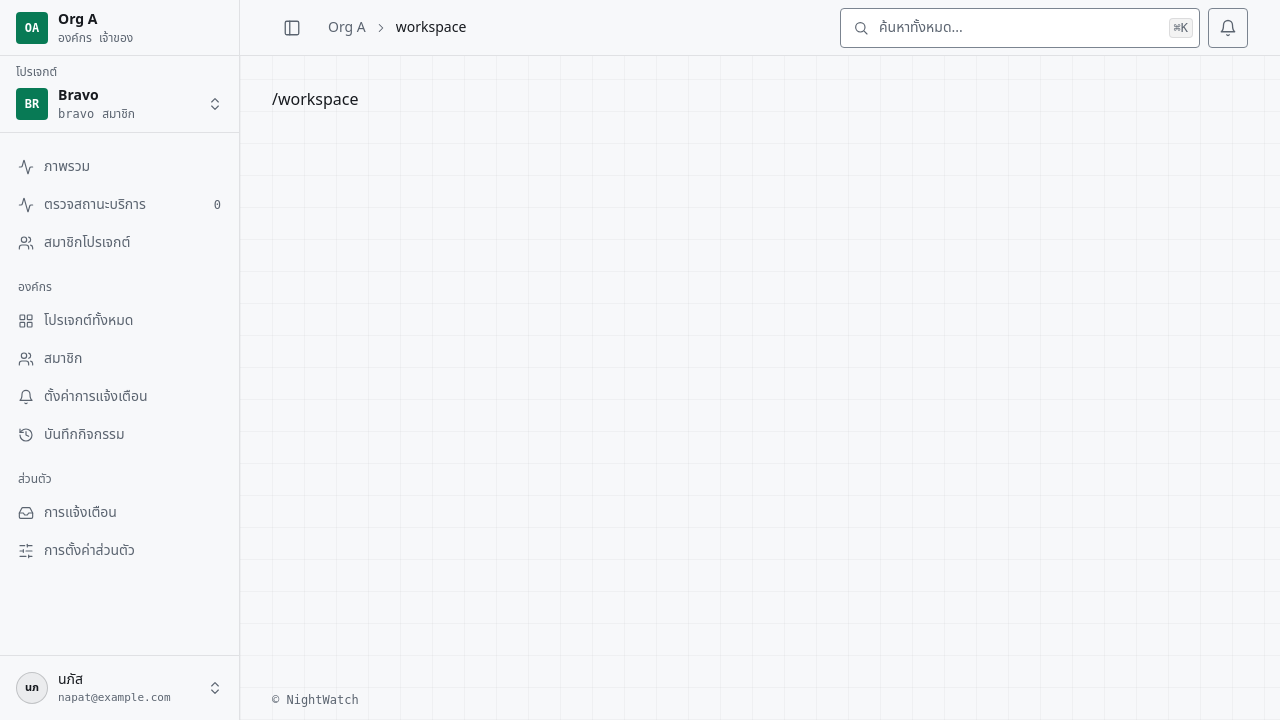
Scenario: ProjectSwitcher › AC-01: search narrows by name or slug and says when nothing matches
This screenshot has width=1280, height=720.
Click the button with test id "shell-project-switch" at (120, 104), box [8,84,231,124]
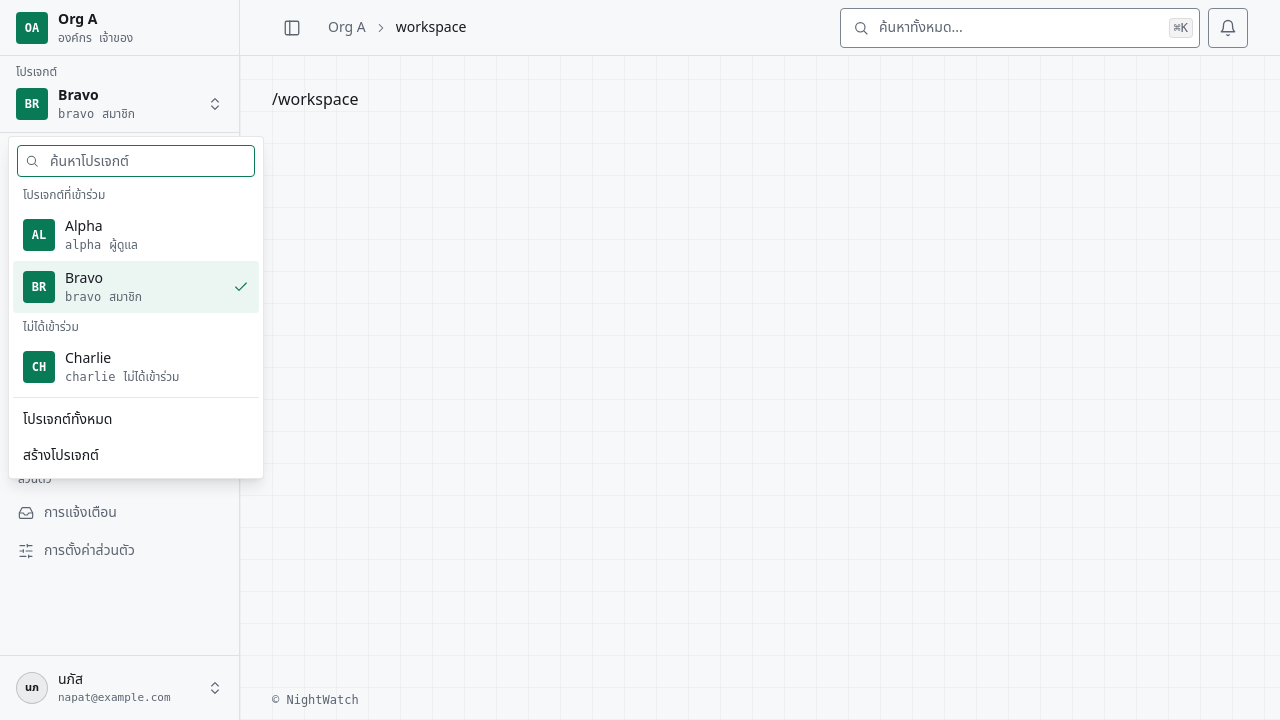
Type "brav" into the field with test id "shell-project-search" at (136, 161), box [17,145,255,177]
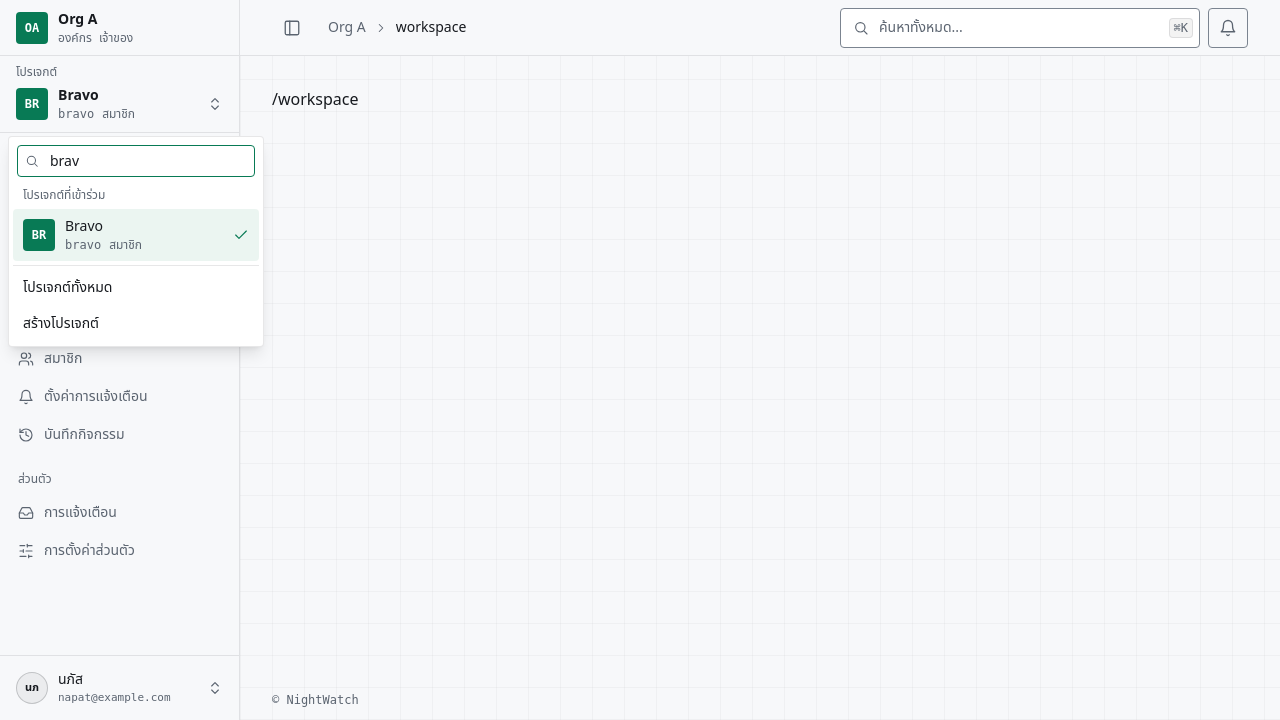
Replace the text in the field with test id "shell-project-search" with "zzz" at (136, 161), box [17,145,255,177]
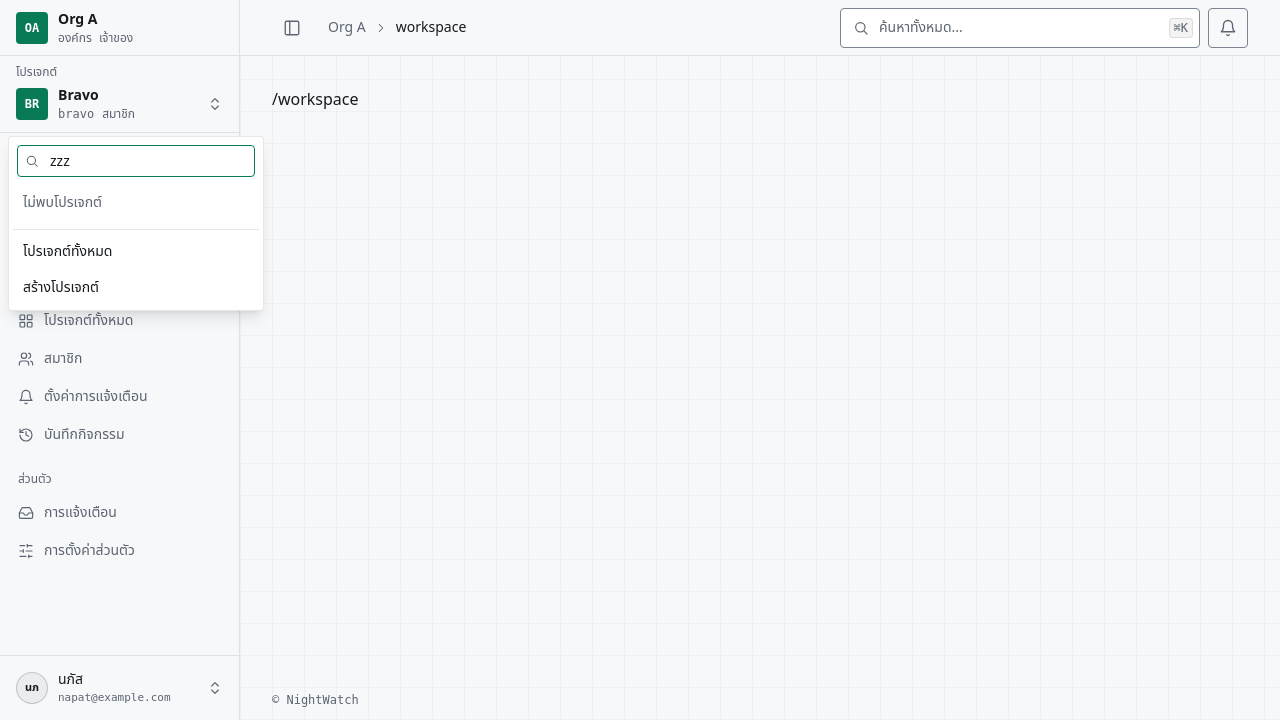
Result: the text "ไม่พบโปรเจกต์" is shown at [23,192,102,213]
